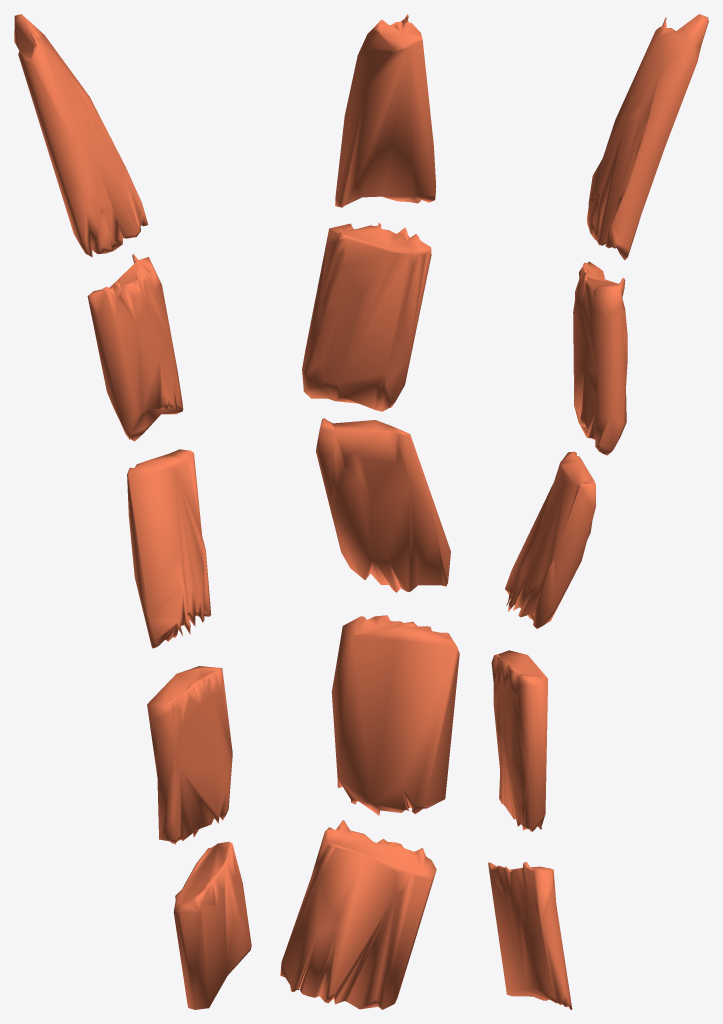
The model's file is Dorsal_parts_of_lateral_intertransversarii_lumborum_muscles.l_G.glb.
3 views of the same model, side by side, from view 1: azimuth 30°, elevation 25°; view 2: azimuth 150°, elevation 25°; view 3: azimuth 270°, elevation 25° (orthographic). The views are drawn at different scales.
Visible parts, largest first — view 1: Dorsal_parts_of_lateral_intertransversarii_lumborum_muscles.; view 2: Dorsal_parts_of_lateral_intertransversarii_lumborum_muscles.; view 3: Dorsal_parts_of_lateral_intertransversarii_lumborum_muscles..
Part boxes in pixels (left/top/right/bottom): Dorsal_parts_of_lateral_intertransversarii_lumborum_muscles.: left=14, top=14, right=251, bottom=1009; Dorsal_parts_of_lateral_intertransversarii_lumborum_muscles.: left=280, top=14, right=459, bottom=1009; Dorsal_parts_of_lateral_intertransversarii_lumborum_muscles.: left=488, top=14, right=708, bottom=1009.
Size of the model in its own units: 0.0287 by 0.1502 by 0.0319.
